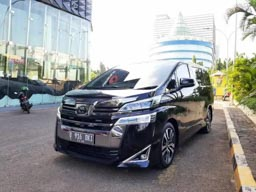plat: (68, 132, 95, 146)
